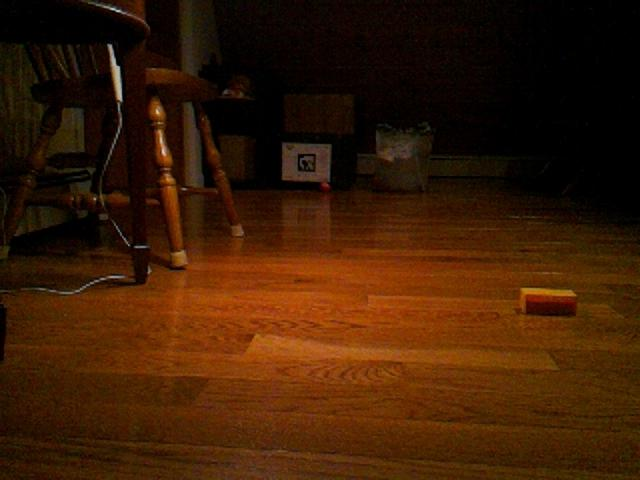yellow: (518, 286, 579, 318)
